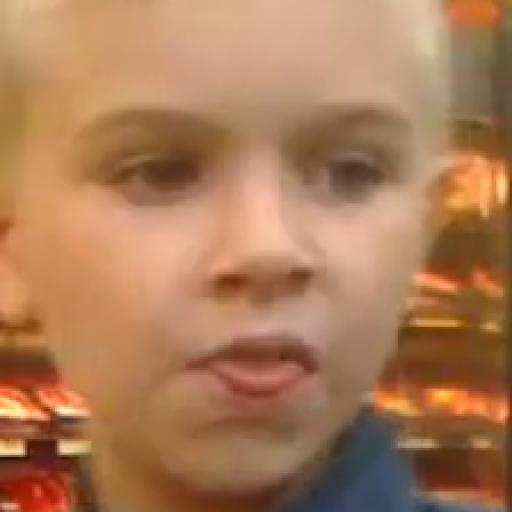Autism: (44, 2, 426, 489)
